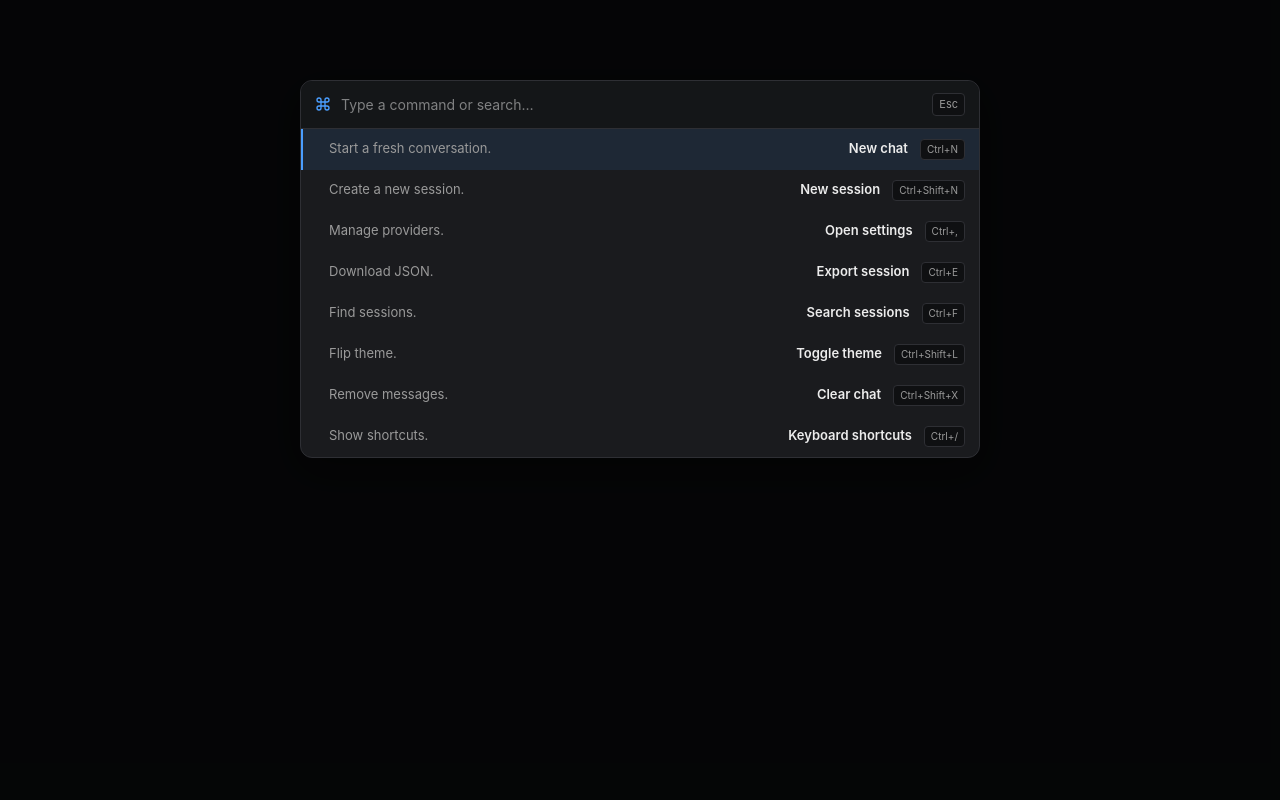
Test: CommandPalette › shows empty-state when no commands match
Type "should-not-match-anything-xyz" into the field named "command search" at (632, 104), box top-left (341, 94), bottom-right (922, 115)
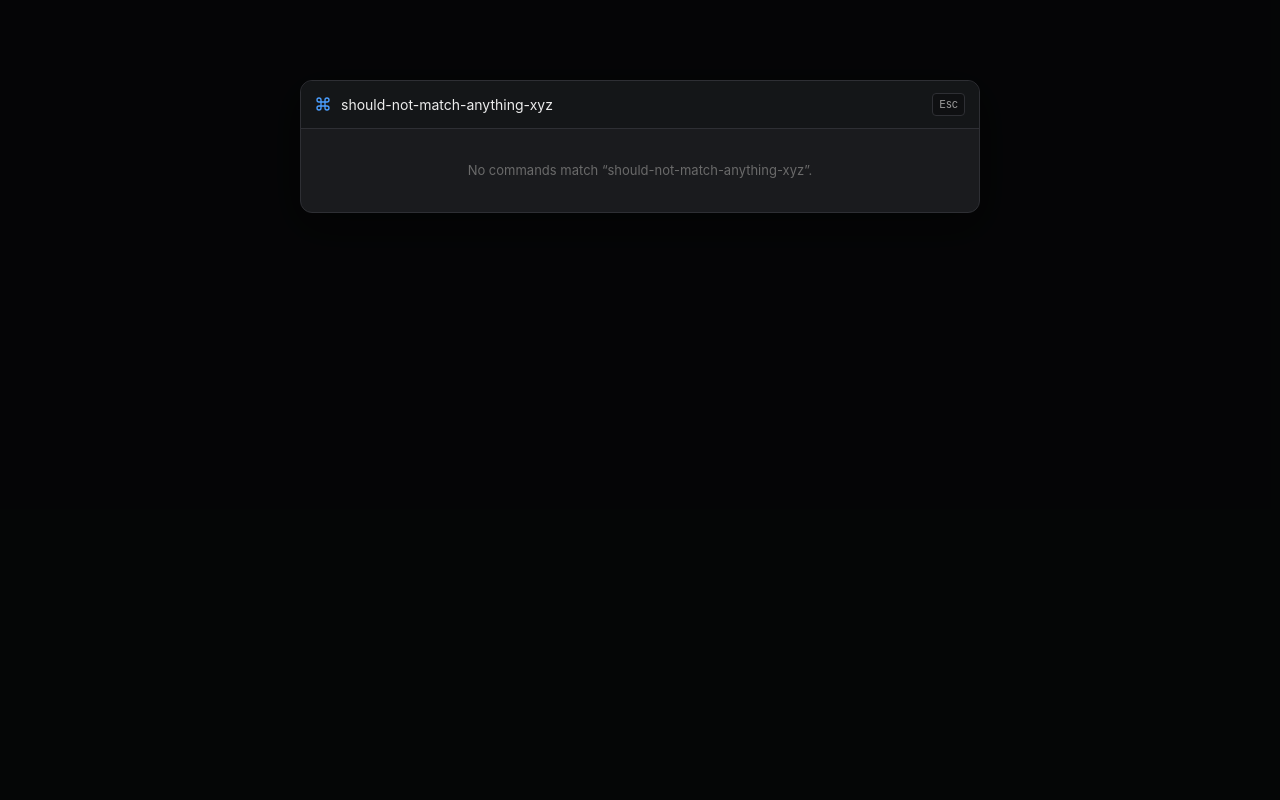
Check: the text "No commands match “should-not-match-anything-xyz”." is shown, box top-left (468, 162), bottom-right (812, 178)
